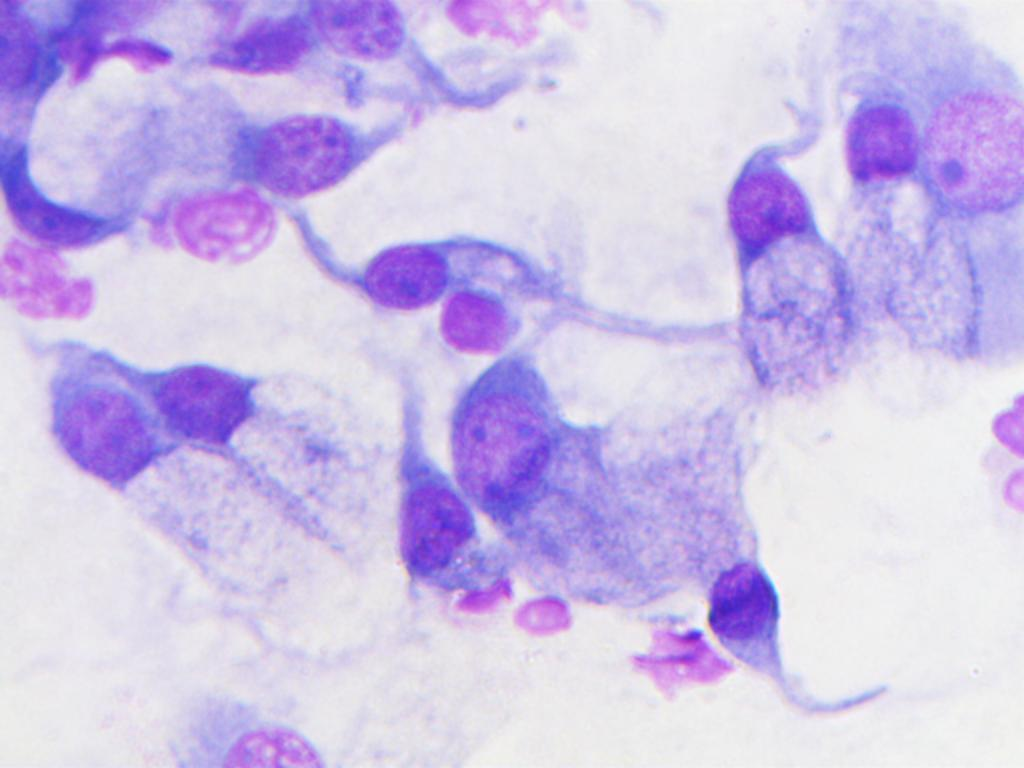epithelial: (921, 83, 1024, 224), (160, 182, 279, 272), (294, 2, 404, 76), (435, 281, 525, 362)
goblet_cell: (43, 347, 271, 578), (709, 106, 841, 383), (160, 86, 420, 203), (138, 367, 363, 500), (456, 367, 599, 568), (677, 415, 791, 647), (837, 84, 918, 356), (387, 422, 484, 612), (350, 228, 550, 311)
